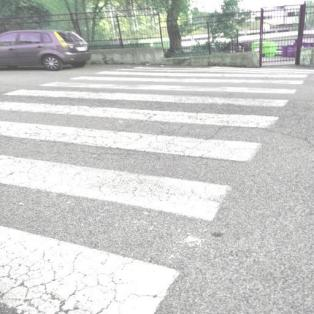Paso de Cebra: (0, 78, 302, 110)
